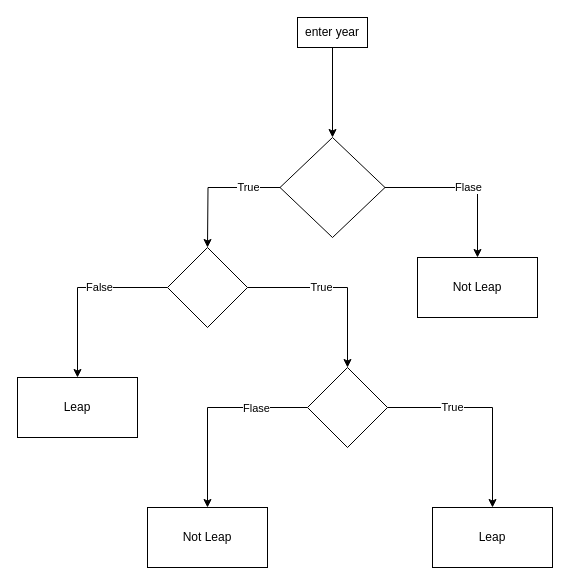
The diagram is 570 pixels wide and 585 high, and some of its shapes have lost their labels. The box of each missing label's shape, as (x1, y1, x2, y2) in pixels:
year % 100 == 0: (166, 246, 248, 328)
year % 4 == 0: (279, 136, 385, 238)
year % 400 == 0: (306, 366, 388, 448)
